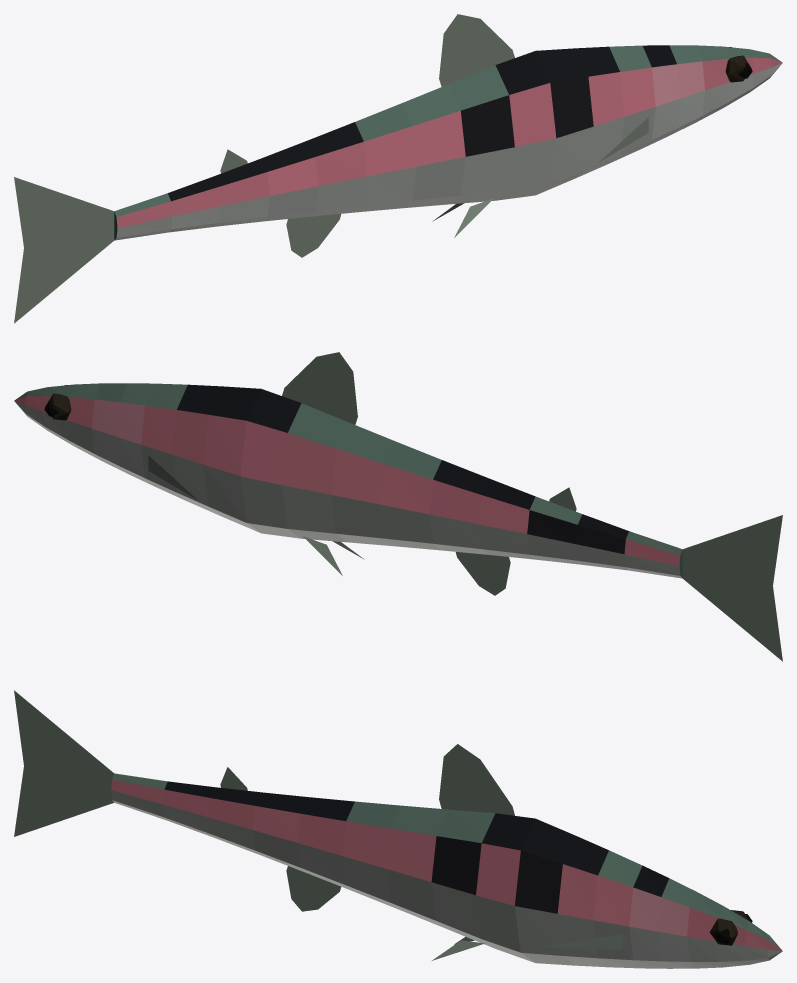
File: rainbow-trout-steelhead.glb
The picture shows the model from 3 angles, top to bottom: view 1: azimuth 30°, elevation 25°; view 2: azimuth 150°, elevation 25°; view 3: azimuth 330°, elevation 25°; orthographic projection.
Parts seen in each view (by area): view 1: rainbow-trout-steelhead; view 2: rainbow-trout-steelhead; view 3: rainbow-trout-steelhead.
Part boxes in pixels (bbox=[...]): rainbow-trout-steelhead: bbox=[14, 14, 782, 323]; rainbow-trout-steelhead: bbox=[14, 352, 782, 661]; rainbow-trout-steelhead: bbox=[14, 690, 782, 968].
Size of the model in its own units: 1.15 by 0.3043 by 0.15.
